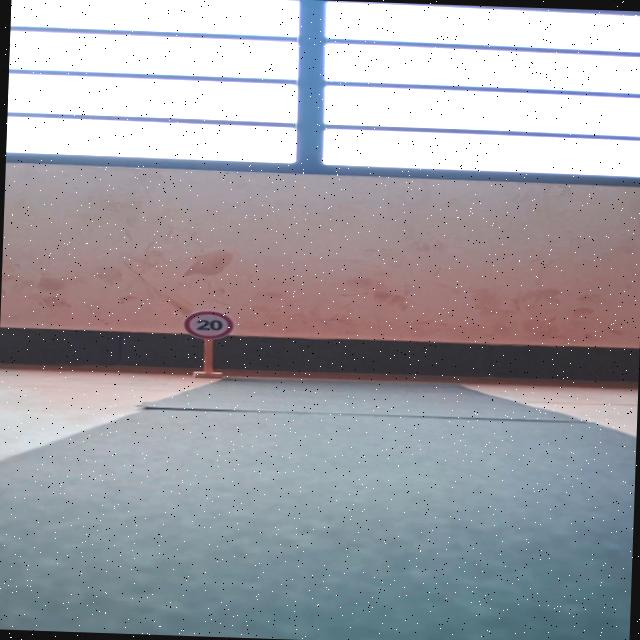Speed20: (181, 306, 237, 343)
